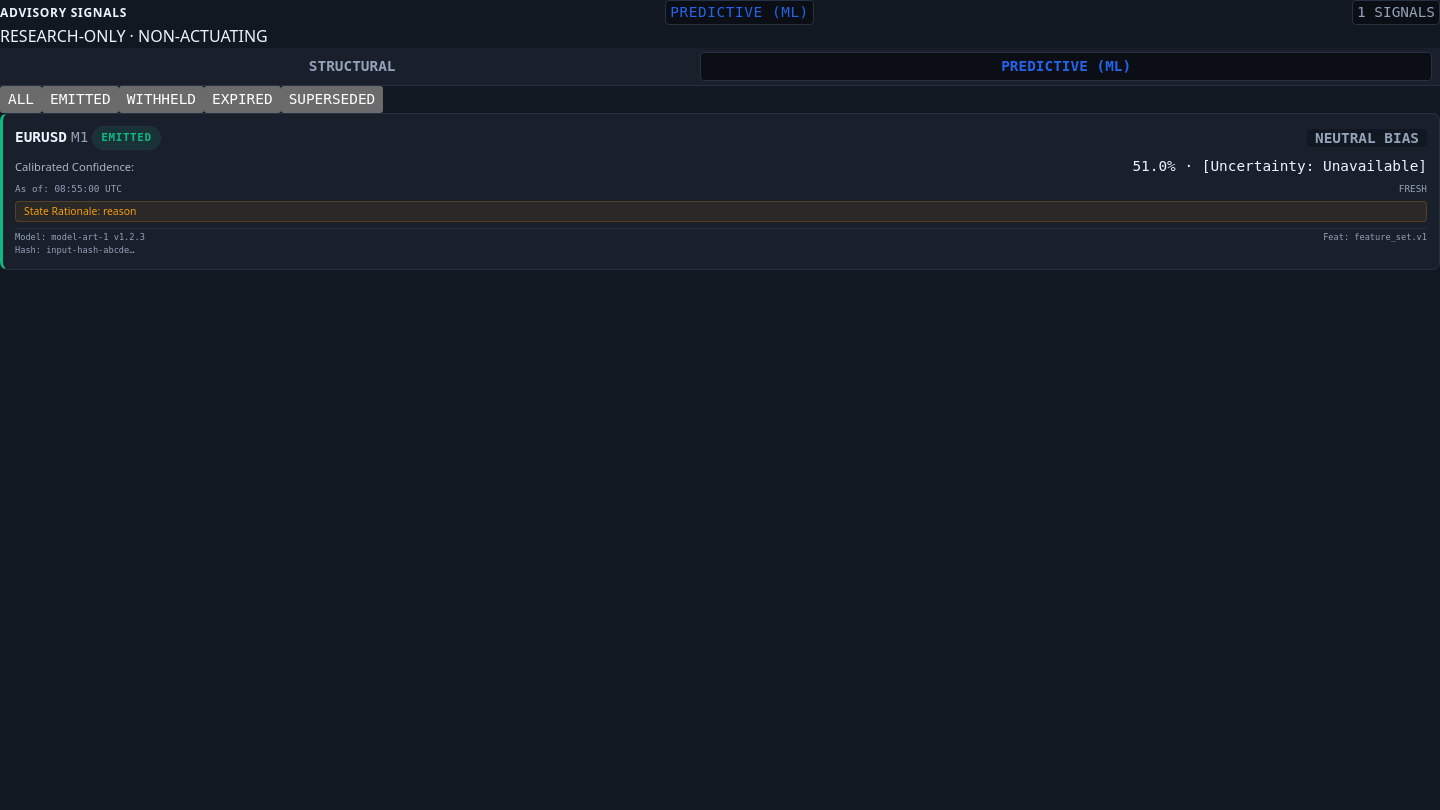
Test case: BO-F-05.1 — signal lineage completion › the expanded lineage section surfaces all three report ids + audit correlation; nothing fabricated
Click the list item with test id "signal-card-sig-lineage-1": (720, 191) [0,113,1439,270]
(page scrolled)
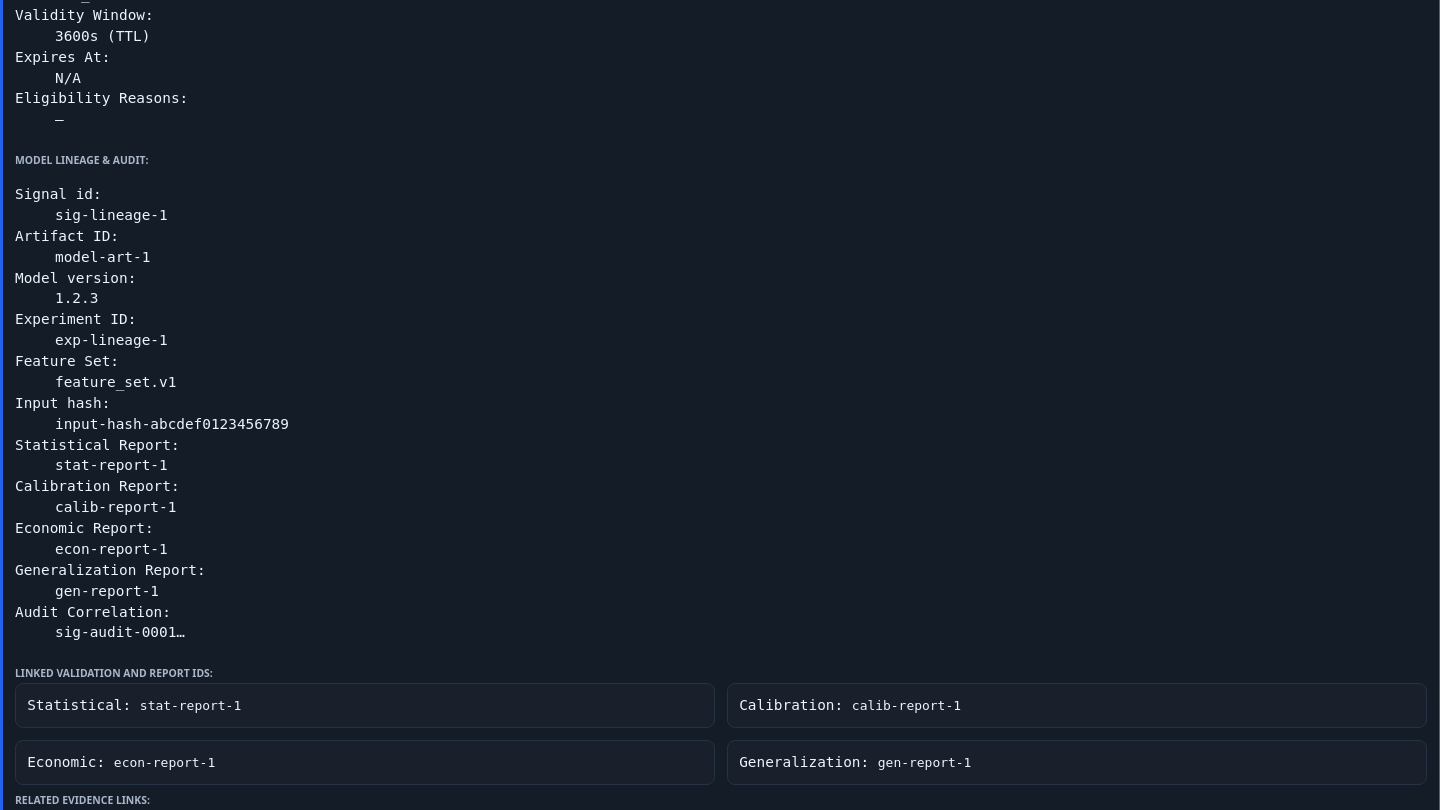
Check: the element with test id "signal-detail-lineage-sig-lineage-1" shows "stat-report-1", box [55,457,168,473]
Check: the element with test id "signal-detail-lineage-sig-lineage-1" shows "econ-report-1", box [55,541,168,557]
Check: the element with test id "signal-detail-lineage-sig-lineage-1" shows "gen-report-1", box [55,583,159,599]
